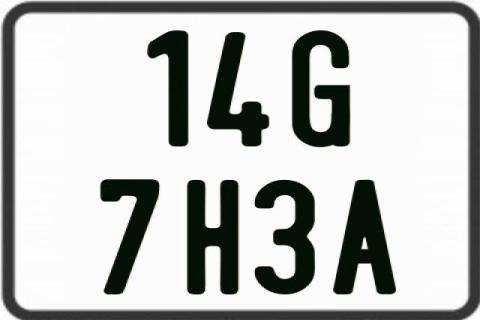0: (99, 178, 163, 298), (204, 32, 266, 151), (253, 178, 315, 292), (144, 31, 186, 151)
A: (333, 180, 400, 295)
G: (290, 29, 351, 151)
H: (186, 178, 239, 294)
